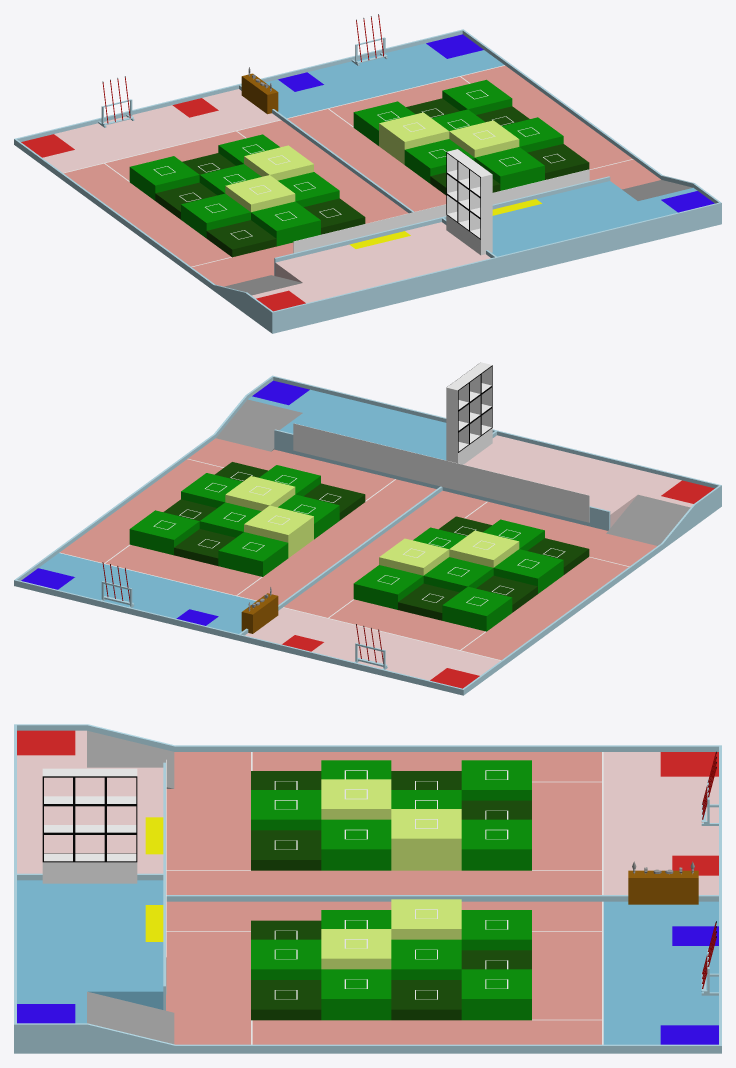
File: map.dae
The picture shows the model from 3 angles, top to bottom: view 1: azimuth 30°, elevation 25°; view 2: azimuth 150°, elevation 25°; view 3: azimuth 270°, elevation 25°; orthographic projection. The views are drawn at different scales.
Parts seen in each view (by area): view 1: node_f96dbf3d_e001_4229_b09e_bd53110a46bb_mesh15, node_f96dbf3d_e001_4229_b09e_bd53110a46bb_mesh5, node_f96dbf3d_e001_4229_b09e_bd53110a46bb_mesh11, node_f96dbf3d_e001_4229_b09e_bd53110a46bb_mesh10, node_f96dbf3d_e001_4229_b09e_bd53110a46bb_mesh9, node_f96dbf3d_e001_4229_b09e_bd53110a46bb_mesh3, node_f96dbf3d_e001_4229_b09e_bd53110a46bb_mesh13, node_f96dbf3d_e001_4229_b09e_bd53110a46bb_mesh12, node_f96dbf3d_e001_4229_b09e_bd53110a46bb_mesh6, node_f96dbf3d_e001_4229_b09e_bd53110a46bb_mesh7, node_f96dbf3d_e001_4229_b09e_bd53110a46bb_mesh0, node_f96dbf3d_e001_4229_b09e_bd53110a46bb_mesh4 (+2 smaller); view 2: node_f96dbf3d_e001_4229_b09e_bd53110a46bb_mesh15, node_f96dbf3d_e001_4229_b09e_bd53110a46bb_mesh11, node_f96dbf3d_e001_4229_b09e_bd53110a46bb_mesh10, node_f96dbf3d_e001_4229_b09e_bd53110a46bb_mesh3, node_f96dbf3d_e001_4229_b09e_bd53110a46bb_mesh5, node_f96dbf3d_e001_4229_b09e_bd53110a46bb_mesh9, node_f96dbf3d_e001_4229_b09e_bd53110a46bb_mesh13, node_f96dbf3d_e001_4229_b09e_bd53110a46bb_mesh12, node_f96dbf3d_e001_4229_b09e_bd53110a46bb_mesh0, node_f96dbf3d_e001_4229_b09e_bd53110a46bb_mesh6, node_f96dbf3d_e001_4229_b09e_bd53110a46bb_mesh7, node_f96dbf3d_e001_4229_b09e_bd53110a46bb_mesh4 (+1 smaller); view 3: node_f96dbf3d_e001_4229_b09e_bd53110a46bb_mesh15, node_f96dbf3d_e001_4229_b09e_bd53110a46bb_mesh11, node_f96dbf3d_e001_4229_b09e_bd53110a46bb_mesh9, node_f96dbf3d_e001_4229_b09e_bd53110a46bb_mesh10, node_f96dbf3d_e001_4229_b09e_bd53110a46bb_mesh5, node_f96dbf3d_e001_4229_b09e_bd53110a46bb_mesh13, node_f96dbf3d_e001_4229_b09e_bd53110a46bb_mesh12, node_f96dbf3d_e001_4229_b09e_bd53110a46bb_mesh3, node_f96dbf3d_e001_4229_b09e_bd53110a46bb_mesh0, node_f96dbf3d_e001_4229_b09e_bd53110a46bb_mesh7, node_f96dbf3d_e001_4229_b09e_bd53110a46bb_mesh6, node_f96dbf3d_e001_4229_b09e_bd53110a46bb_mesh4 (+3 smaller).
Boxes of the visible parts, <box> form: node_f96dbf3d_e001_4229_b09e_bd53110a46bb_mesh15: <box>64,65,660,286</box>; node_f96dbf3d_e001_4229_b09e_bd53110a46bb_mesh5: <box>14,29,721,333</box>; node_f96dbf3d_e001_4229_b09e_bd53110a46bb_mesh11: <box>129,79,563,246</box>; node_f96dbf3d_e001_4229_b09e_bd53110a46bb_mesh10: <box>42,89,490,303</box>; node_f96dbf3d_e001_4229_b09e_bd53110a46bb_mesh9: <box>265,43,697,256</box>; node_f96dbf3d_e001_4229_b09e_bd53110a46bb_mesh3: <box>63,65,633,266</box>; node_f96dbf3d_e001_4229_b09e_bd53110a46bb_mesh13: <box>155,98,589,257</box>; node_f96dbf3d_e001_4229_b09e_bd53110a46bb_mesh12: <box>225,112,519,212</box>; node_f96dbf3d_e001_4229_b09e_bd53110a46bb_mesh6: <box>278,34,714,212</box>; node_f96dbf3d_e001_4229_b09e_bd53110a46bb_mesh7: <box>21,98,305,311</box>; node_f96dbf3d_e001_4229_b09e_bd53110a46bb_mesh0: <box>224,67,692,295</box>; node_f96dbf3d_e001_4229_b09e_bd53110a46bb_mesh4: <box>241,73,278,114</box>; node_f96dbf3d_e001_4229_b09e_bd53110a46bb_mesh15: <box>60,438,656,660</box>; node_f96dbf3d_e001_4229_b09e_bd53110a46bb_mesh11: <box>129,465,563,631</box>; node_f96dbf3d_e001_4229_b09e_bd53110a46bb_mesh10: <box>245,435,693,680</box>; node_f96dbf3d_e001_4229_b09e_bd53110a46bb_mesh3: <box>59,362,629,660</box>; node_f96dbf3d_e001_4229_b09e_bd53110a46bb_mesh5: <box>14,375,721,695</box>; node_f96dbf3d_e001_4229_b09e_bd53110a46bb_mesh9: <box>38,389,446,633</box>; node_f96dbf3d_e001_4229_b09e_bd53110a46bb_mesh13: <box>163,462,589,620</box>; node_f96dbf3d_e001_4229_b09e_bd53110a46bb_mesh12: <box>225,476,519,575</box>; node_f96dbf3d_e001_4229_b09e_bd53110a46bb_mesh0: <box>216,399,690,610</box>; node_f96dbf3d_e001_4229_b09e_bd53110a46bb_mesh6: <box>21,380,309,625</box>; node_f96dbf3d_e001_4229_b09e_bd53110a46bb_mesh7: <box>282,480,714,688</box>; node_f96dbf3d_e001_4229_b09e_bd53110a46bb_mesh4: <box>241,593,278,633</box>; node_f96dbf3d_e001_4229_b09e_bd53110a46bb_mesh15: <box>166,752,601,1044</box>; node_f96dbf3d_e001_4229_b09e_bd53110a46bb_mesh11: <box>251,760,531,1020</box>; node_f96dbf3d_e001_4229_b09e_bd53110a46bb_mesh9: <box>17,880,718,1044</box>; node_f96dbf3d_e001_4229_b09e_bd53110a46bb_mesh10: <box>17,730,718,894</box>; node_f96dbf3d_e001_4229_b09e_bd53110a46bb_mesh5: <box>14,724,721,1053</box>; node_f96dbf3d_e001_4229_b09e_bd53110a46bb_mesh13: <box>251,771,531,1020</box>; node_f96dbf3d_e001_4229_b09e_bd53110a46bb_mesh12: <box>321,779,461,969</box>; node_f96dbf3d_e001_4229_b09e_bd53110a46bb_mesh3: <box>42,752,692,1044</box>; node_f96dbf3d_e001_4229_b09e_bd53110a46bb_mesh0: <box>87,730,694,1044</box>; node_f96dbf3d_e001_4229_b09e_bd53110a46bb_mesh7: <box>17,730,718,875</box>; node_f96dbf3d_e001_4229_b09e_bd53110a46bb_mesh6: <box>17,926,718,1044</box>; node_f96dbf3d_e001_4229_b09e_bd53110a46bb_mesh4: <box>628,870,698,904</box>.
Size of the model in its own units: 12150 by 12100 by 2470.
